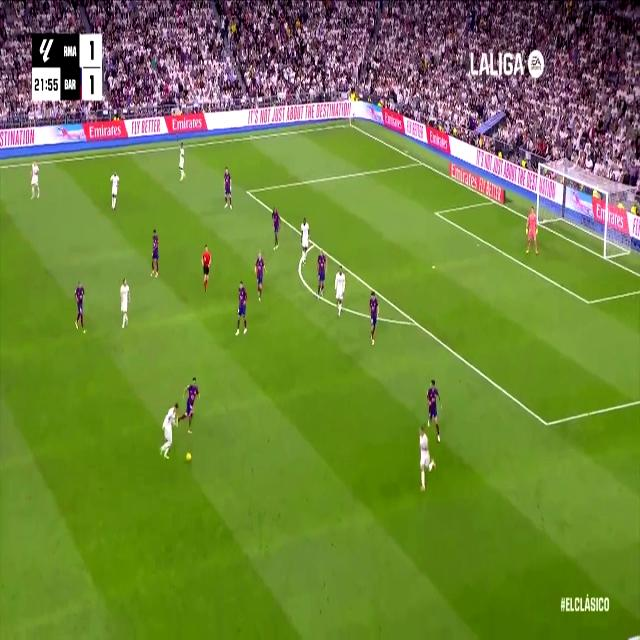bigarea_bottom_inner: (541, 409, 553, 437)
bigarea_top_inner: (244, 184, 250, 198)
bottom_arc_area_intersection: (411, 312, 421, 332)
corner: (346, 118, 354, 129)
smallarea_top_inner: (433, 206, 439, 220)
top_arc_area_intersection: (312, 236, 316, 249)
